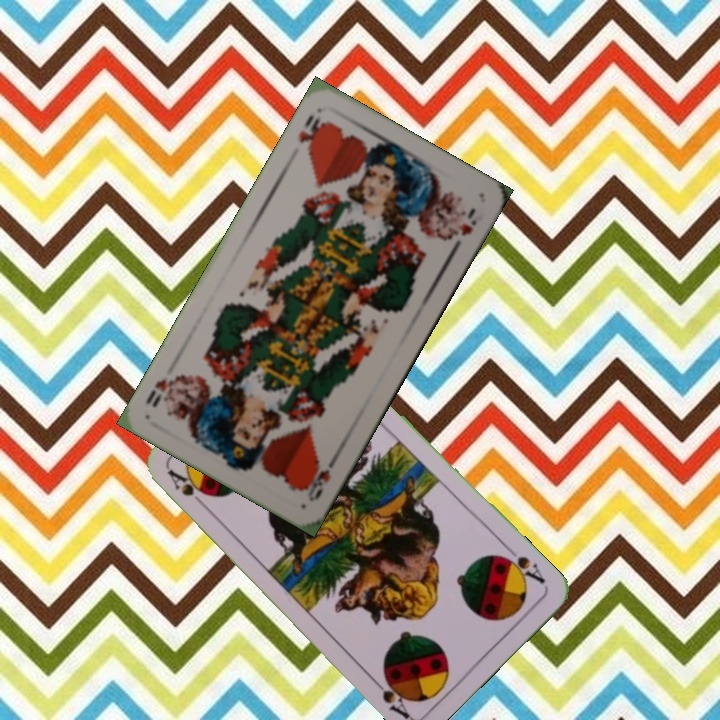HO: (301, 451, 341, 504), (294, 110, 328, 157)
SA: (163, 464, 217, 513), (496, 543, 548, 587)
